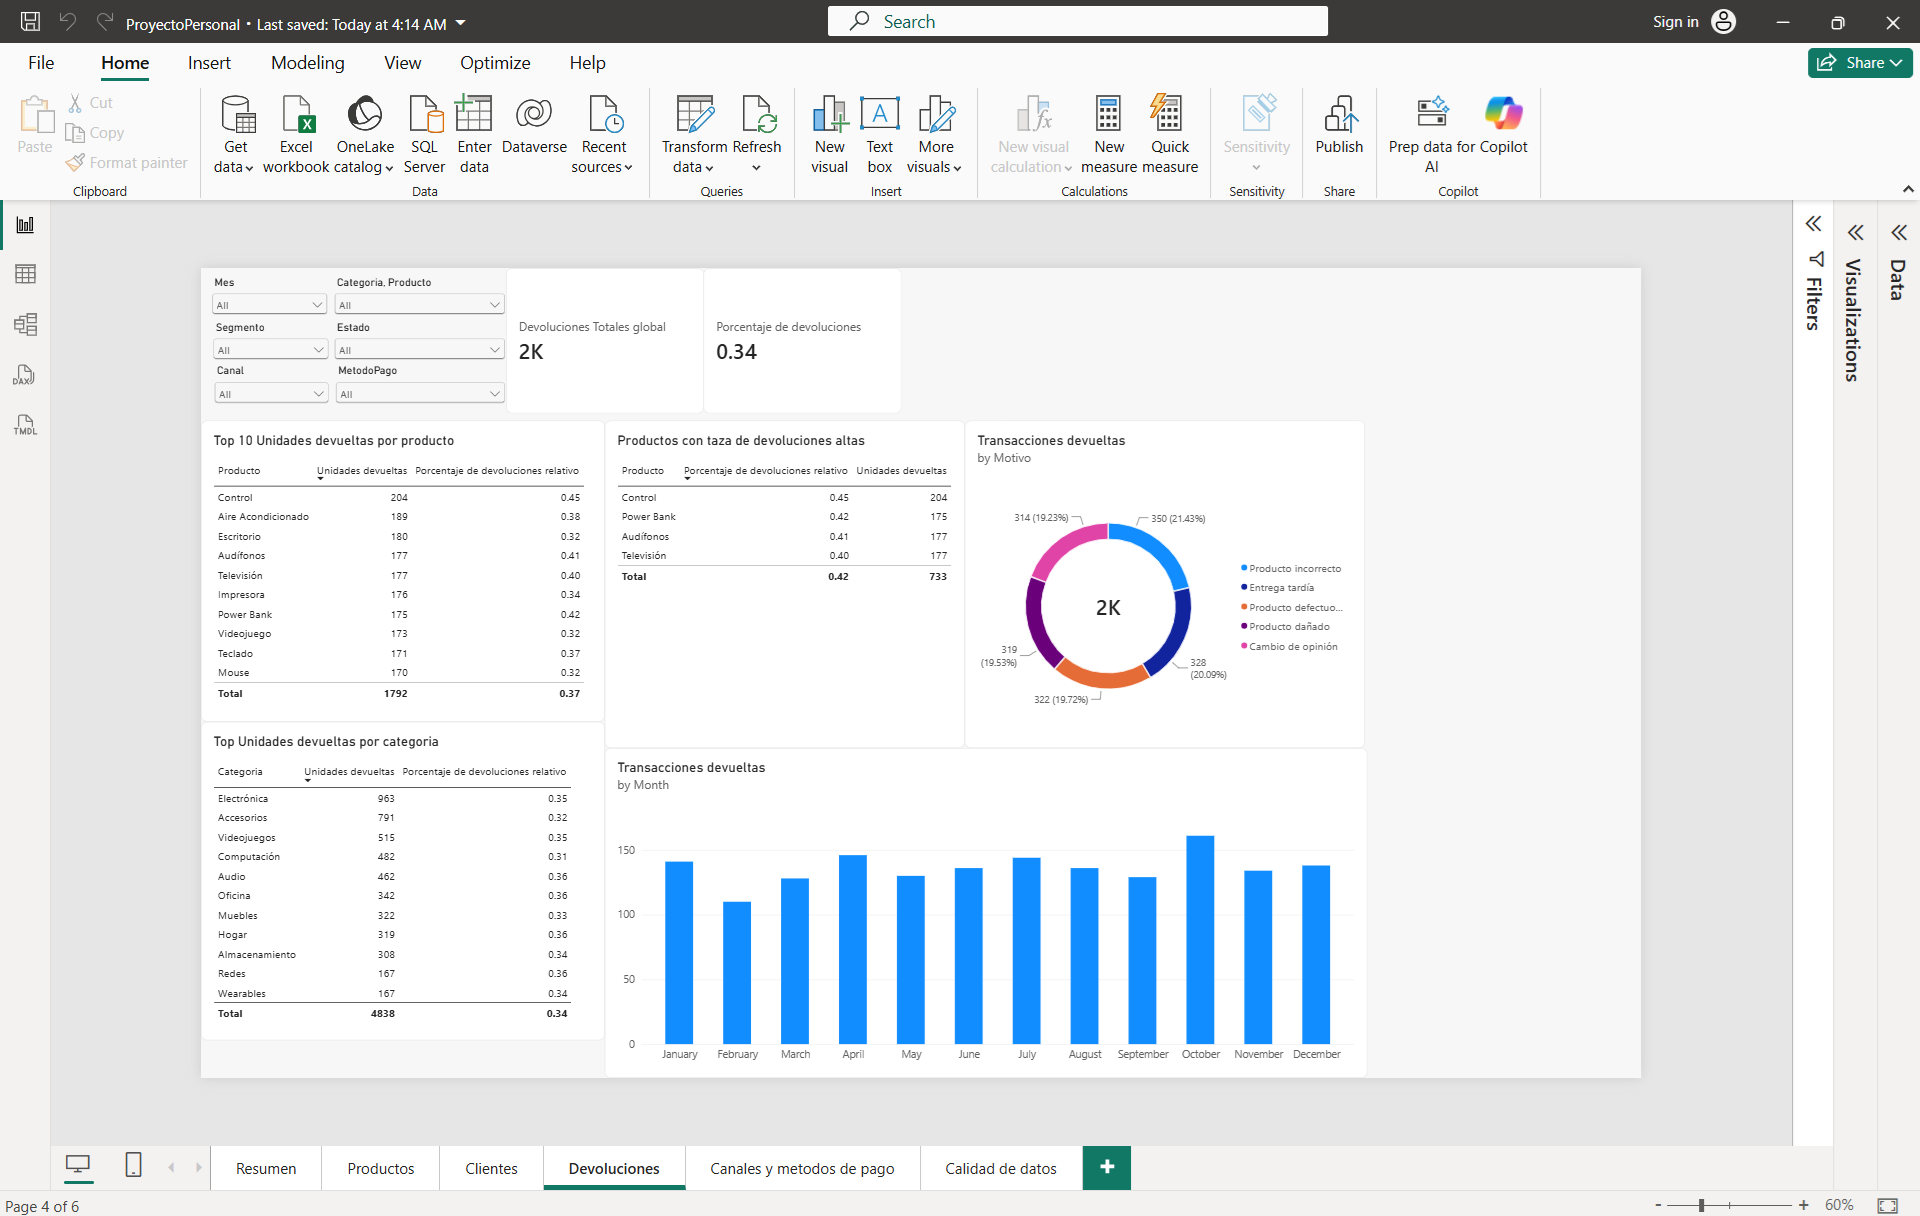

The page's visual inventory and layout, read from the dashboard file:
{"tool":"powerbi","page":{"name":"Devoluciones","canvas":[1920,1080],"ordinal":3},"visuals":[{"type":"cardVisual","fields":{"Data":["Devoluciones.Devoluciones Totales global"]},"box":[406,0,264,194],"z":0},{"type":"cardVisual","fields":{"Data":["Devoluciones.Porcentaje de devoluciones"]},"box":[670,0,264,194],"z":1000},{"type":"tableEx","title":"Top Unidades devueltas por categoria","fields":{"Values":["Productos.Categoria","VentasLimpias.Numero de devoluciones","VentasLimpias.Porcentaje de devoluciones relativo"]},"box":[0,605,538.3,425],"z":2000},{"type":"tableEx","title":"Top 10 Unidades devueltas por producto","fields":{"Values":["Productos.Producto","VentasLimpias.Numero de devoluciones","VentasLimpias.Porcentaje de devoluciones relativo"]},"box":[0,203.3,538.3,401.7],"z":3000},{"type":"donutChart","fields":{"Category":["Devoluciones.Motivo"],"Y":["Devoluciones.Transacciones devueltas"]},"box":[1018.3,203.3,533.3,436.7],"z":4000},{"type":"slicer","fields":{"Values":["Productos.Categoria","Productos.Producto"]},"box":[172.8,10,236.7,115],"z":5000,"group":"g1"},{"type":"clusteredColumnChart","fields":{"Category":["Devoluciones.FechaDevolucion.Variation.Date Hierarchy.Month"],"Y":["Devoluciones.Transacciones devueltas"]},"box":[538.3,640,1016.7,440],"z":5000},{"type":"slicer","fields":{"Values":["ClientesLimpios.Estado"]},"box":[172.8,70,236.7,95],"z":6000,"group":"g1"},{"type":"tableEx","title":"Productos con taza de devoluciones altas","fields":{"Values":["Productos.Producto","VentasLimpias.Porcentaje de devoluciones relativo","VentasLimpias.Numero de devoluciones"]},"box":[538.3,203.3,480,436.7],"z":6000},{"type":"group","id":"g1","title":"Group 1","box":[10,10,400,280],"z":7000},{"type":"slicer","fields":{"Values":["ClientesLimpios.Segmento"]},"box":[11.1,70,163.3,220],"z":7000,"group":"g1"},{"type":"slicer","fields":{"Values":["VentasLimpias.Mes"]},"box":[10,10,163.3,81.1],"z":8000,"group":"g1"},{"type":"slicer","fields":{"Values":["VentasLimpias.Canal"]},"box":[12.8,128.3,161.7,150],"z":9000,"group":"g1"},{"type":"slicer","fields":{"Values":["VentasLimpias.MetodoPago"]},"box":[174.4,128.3,235,75],"z":10000,"group":"g1"}]}

Visuals, with their boxes on the page's 1920x1080 design canvas (x1, y1, x2, y2). These are canvas units, not pixel positions in the 1920x1216 screenshot, which may show the page scaled, cropped or inside an application window:
cardVisual - Devoluciones.Devoluciones Totales global: {"left": 406, "top": 0, "right": 670, "bottom": 194}
cardVisual - Devoluciones.Porcentaje de devoluciones: {"left": 670, "top": 0, "right": 934, "bottom": 194}
"Top Unidades devueltas por categoria" tableEx: {"left": 0, "top": 605, "right": 538, "bottom": 1030}
"Top 10 Unidades devueltas por producto" tableEx: {"left": 0, "top": 203, "right": 538, "bottom": 605}
donutChart - Devoluciones.Motivo x Devoluciones.Transacciones devueltas: {"left": 1018, "top": 203, "right": 1552, "bottom": 640}
slicer - Productos.Categoria x Productos.Producto: {"left": 173, "top": 10, "right": 410, "bottom": 125}
clusteredColumnChart - Devoluciones.FechaDevolucion.Variation.Date Hierarchy.Month x Devoluciones.Transacciones devueltas: {"left": 538, "top": 640, "right": 1555, "bottom": 1080}
slicer - ClientesLimpios.Estado: {"left": 173, "top": 70, "right": 410, "bottom": 165}
"Productos con taza de devoluciones altas" tableEx: {"left": 538, "top": 203, "right": 1018, "bottom": 640}
"Group 1" group: {"left": 10, "top": 10, "right": 410, "bottom": 290}
slicer - ClientesLimpios.Segmento: {"left": 11, "top": 70, "right": 174, "bottom": 290}
slicer - VentasLimpias.Mes: {"left": 10, "top": 10, "right": 173, "bottom": 91}
slicer - VentasLimpias.Canal: {"left": 13, "top": 128, "right": 174, "bottom": 278}
slicer - VentasLimpias.MetodoPago: {"left": 174, "top": 128, "right": 409, "bottom": 203}
